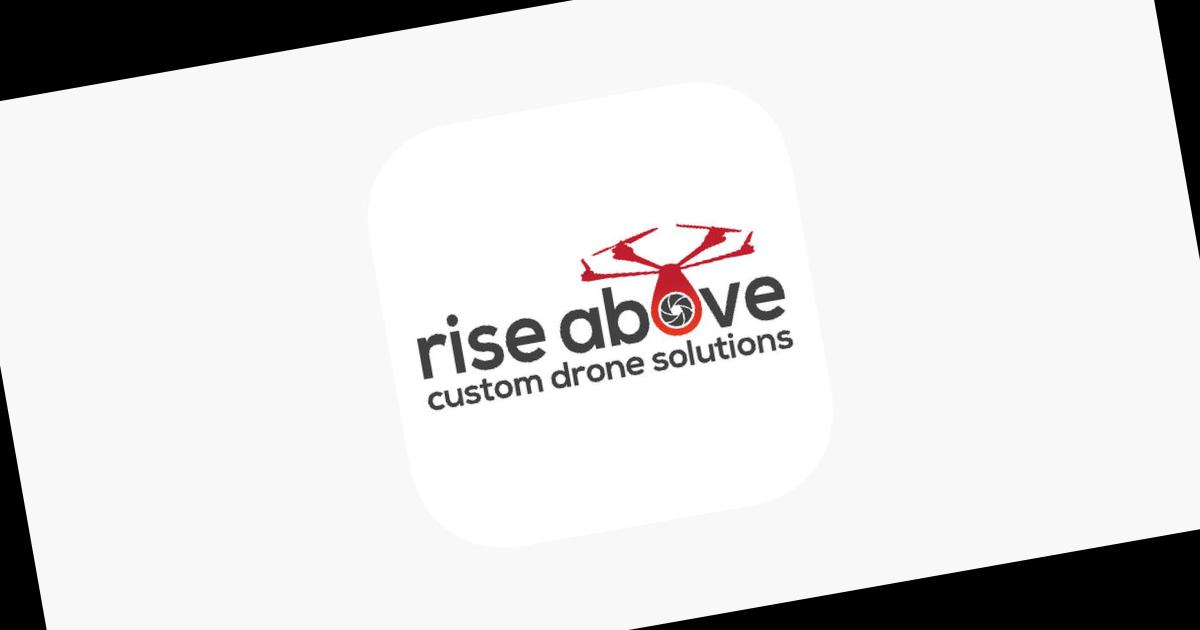drone: (557, 203, 772, 314)
